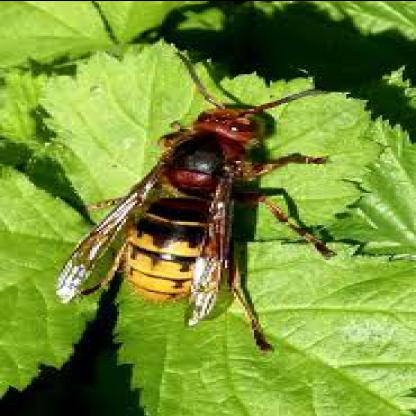european: (45, 82, 355, 314)
